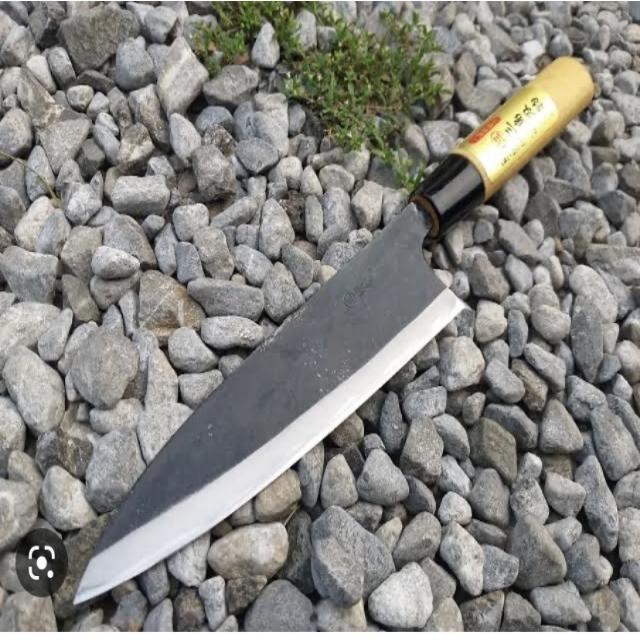Knife: (62, 32, 632, 628)
